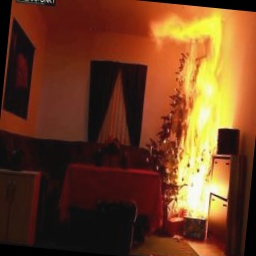fire: (125, 1, 256, 234)
